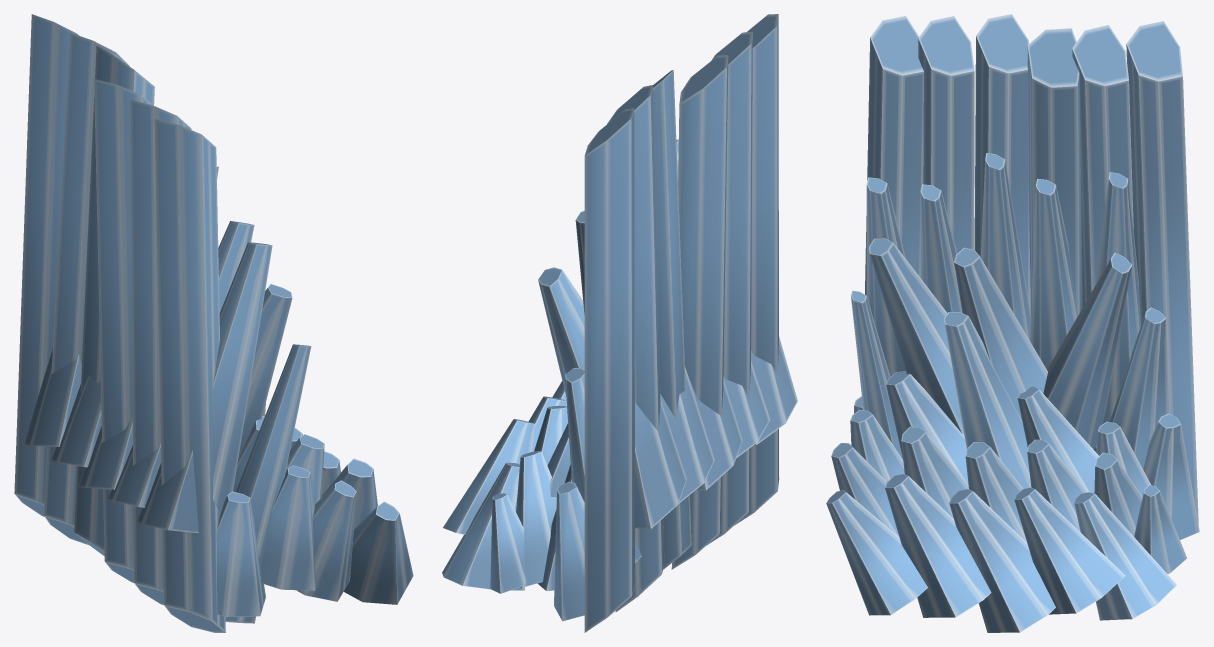
The model's file is wall_spike_09.fbx.
3 views of the same model, side by side, from view 1: azimuth 30°, elevation 25°; view 2: azimuth 150°, elevation 25°; view 3: azimuth 270°, elevation 25° (orthographic). The views are drawn at different scales.
Parts seen in each view (by area): view 1: wall_spike_09; view 2: wall_spike_09; view 3: wall_spike_09.
Part boxes in pixels (x1=…): wall_spike_09: x1=14, y1=14, x2=413, y2=632; wall_spike_09: x1=442, y1=14, x2=797, y2=632; wall_spike_09: x1=826, y1=14, x2=1199, y2=632.
Size of the model in its own units: 0.9608 by 1.87 by 1.23.
Materials: 1 (1 with a texture image).
